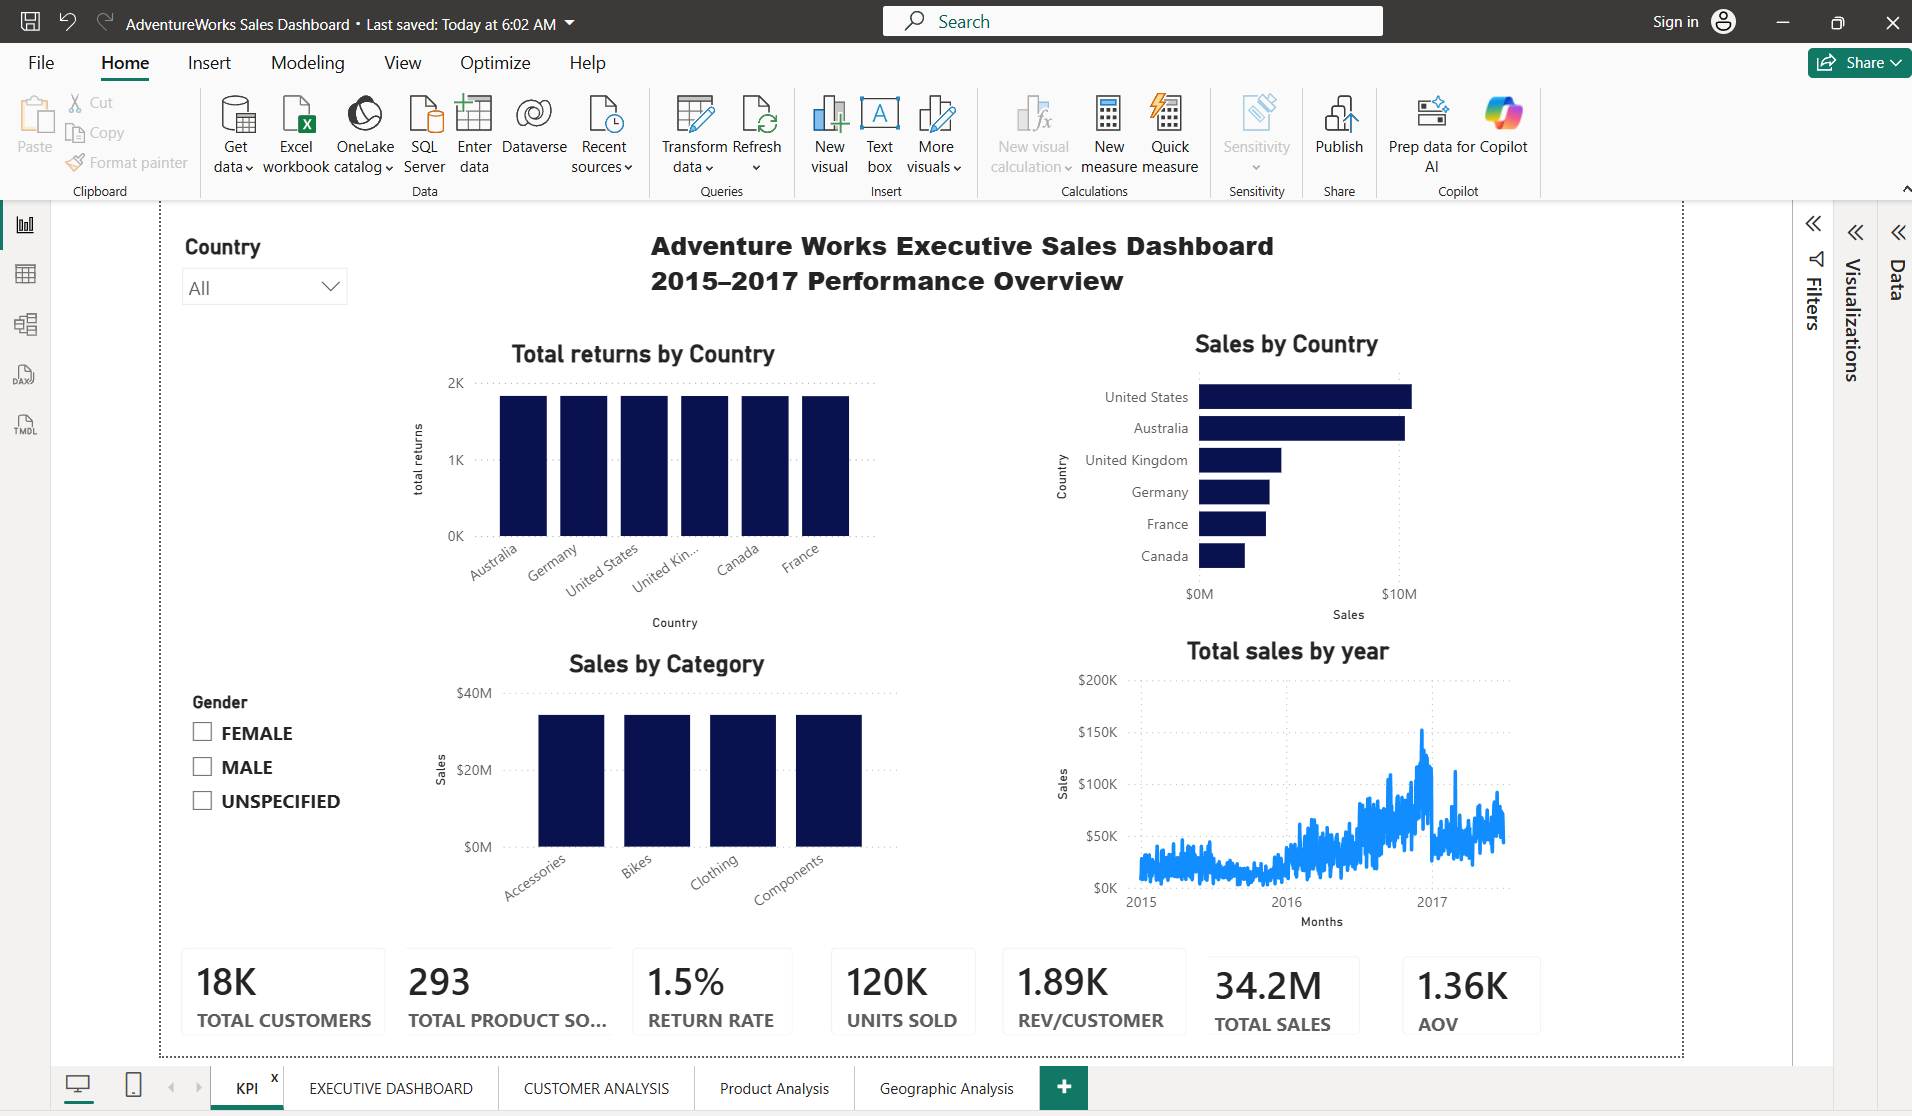

Layout of this report page (visuals, bound fields, positions):
{"tool":"powerbi","page":{"name":"KPI","canvas":[1280,720],"ordinal":0},"visuals":[{"type":"cardVisual","fields":{"Data":["SALES.TOTAL SALES"]},"box":[855.8,619.8,170.9,100],"z":0},{"type":"cardVisual","fields":{"Data":["PRODUCT DETAILS.TOTAL PRODUCT SOLD"]},"box":[177.4,611.6,229,108.6],"z":1000},{"type":"cardVisual","fields":{"Data":["SALES.TOTAL ORDERS QUANTITY"]},"box":[546.5,611.6,157,108.1],"z":2000},{"type":"cardVisual","fields":{"Data":["CUSTOMER DETAILS.TOTAL CUSTOMERS"]},"box":[0,611.6,206.4,108.6],"z":3000},{"type":"cardVisual","fields":{"Data":["CUSTOMER DETAILS.REVENUE PER CUSTOMER"]},"box":[690.7,611.6,189.5,108.1],"z":4000},{"type":"cardVisual","title":"AOV","fields":{"Data":["SALES.AVERAGE_ORDER_VALUE"]},"box":[1026.7,619.8,151.2,100],"z":5000},{"type":"lineChart","title":"Total sales by year","fields":{"Y":["SALES.TOTAL SALES"],"Category":["SALES.OrderDate.Variation.Date Hierarchy.Month"]},"box":[748.1,366.5,398.8,251.5],"z":6000},{"type":"slicer","fields":{"Values":["TERITORIES LIST.Country"]},"box":[7,24.4,159.3,83.7],"z":8000},{"type":"clusteredColumnChart","title":"Sales by Category","fields":{"Category":["PRODUCT KEY.CategoryName"],"Y":["SALES.TOTAL SALES"]},"box":[224.7,377.3,400.9,250.5],"z":9000},{"type":"clusteredBarChart","title":"Sales by Country","fields":{"Category":["TERITORIES LIST.Country"],"Y":["SALES.TOTAL SALES"]},"box":[747.1,108.6,398.8,251.5],"z":10000},{"type":"cardVisual","fields":{"Data":["RETURNS.return rate"]},"box":[379.4,611.6,169.8,108.6],"z":11000},{"type":"clusteredColumnChart","title":"Total returns by Country","fields":{"Y":["RETURNS.total returns"],"Category":["TERITORIES LIST.Country"]},"box":[205.8,116.4,399.4,249.9],"z":12000},{"type":"slicer","fields":{"Values":["CUSTOMER DETAILS.Gender"]},"box":[14,409.3,152.3,126.7],"z":13000},{"type":"textbox","box":[406.7,18.4,642,76],"z":14000}]}

Visuals, with their boxes on the page's 1280x720 design canvas (x1, y1, x2, y2). These are canvas units, not pixel positions in the 1912x1116 screenshot, which may show the page scaled, cropped or inside an application window:
cardVisual - SALES.TOTAL SALES: <bbox>856, 620, 1027, 720</bbox>
cardVisual - PRODUCT DETAILS.TOTAL PRODUCT SOLD: <bbox>177, 612, 406, 720</bbox>
cardVisual - SALES.TOTAL ORDERS QUANTITY: <bbox>546, 612, 704, 720</bbox>
cardVisual - CUSTOMER DETAILS.TOTAL CUSTOMERS: <bbox>0, 612, 206, 720</bbox>
cardVisual - CUSTOMER DETAILS.REVENUE PER CUSTOMER: <bbox>691, 612, 880, 720</bbox>
"AOV" cardVisual: <bbox>1027, 620, 1178, 720</bbox>
"Total sales by year" lineChart: <bbox>748, 366, 1147, 618</bbox>
slicer - TERITORIES LIST.Country: <bbox>7, 24, 166, 108</bbox>
"Sales by Category" clusteredColumnChart: <bbox>225, 377, 626, 628</bbox>
"Sales by Country" clusteredBarChart: <bbox>747, 109, 1146, 360</bbox>
cardVisual - RETURNS.return rate: <bbox>379, 612, 549, 720</bbox>
"Total returns by Country" clusteredColumnChart: <bbox>206, 116, 605, 366</bbox>
slicer - CUSTOMER DETAILS.Gender: <bbox>14, 409, 166, 536</bbox>
textbox: <bbox>407, 18, 1049, 94</bbox>
